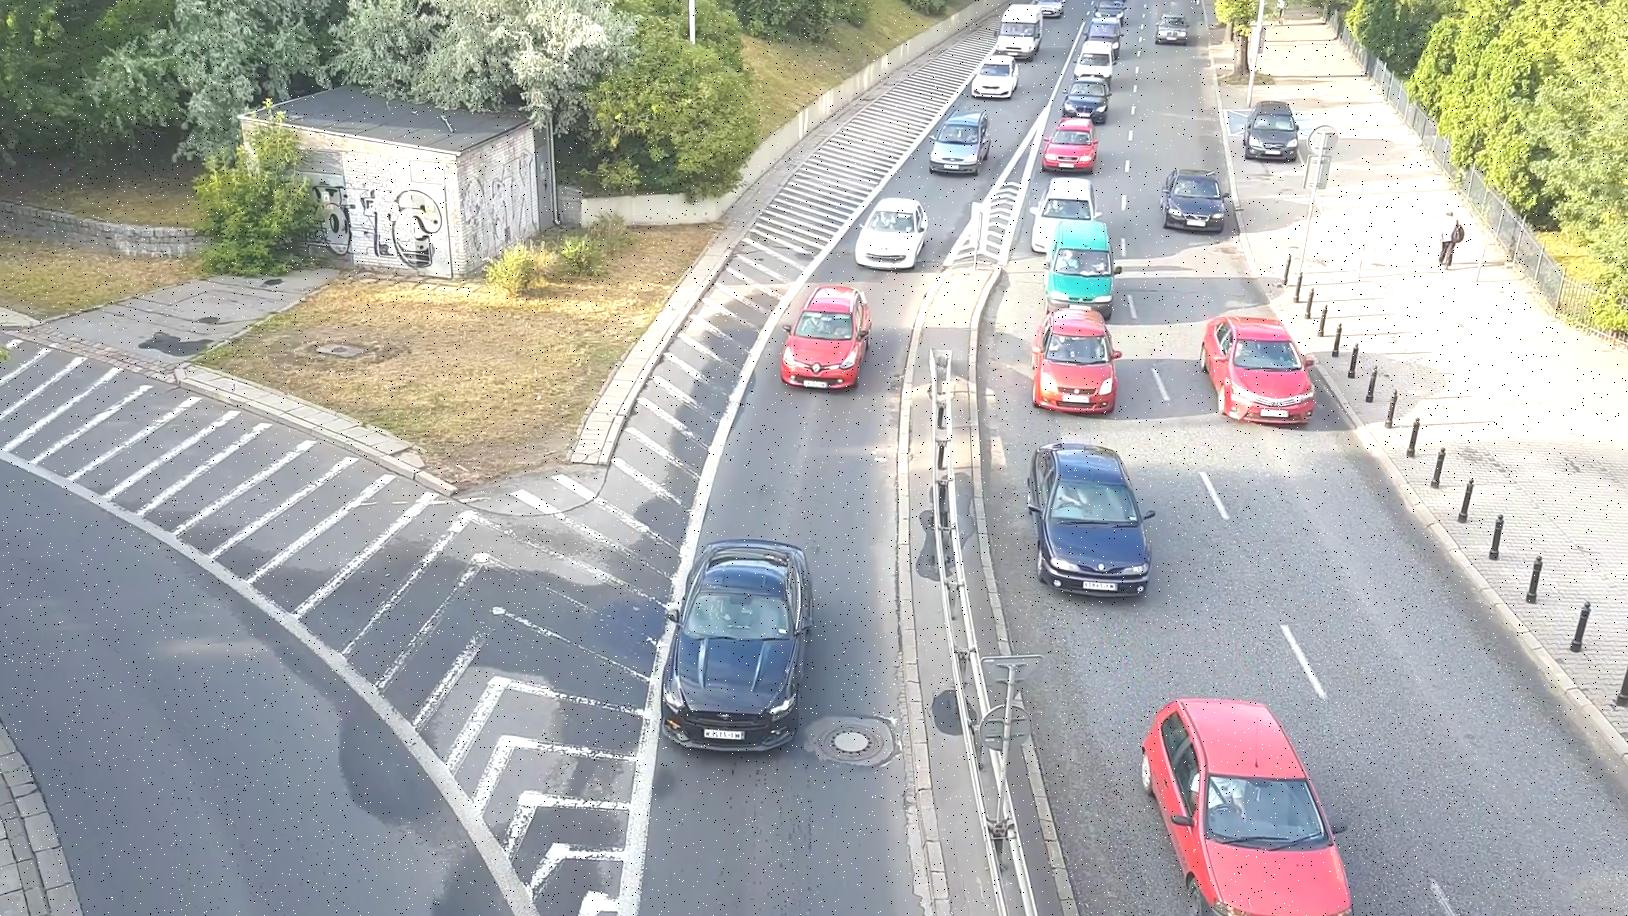car: (1121, 684, 1364, 916), (643, 532, 814, 755), (1017, 428, 1162, 603), (1192, 310, 1323, 428), (777, 281, 880, 402), (1025, 303, 1127, 410), (851, 190, 939, 275), (1153, 162, 1234, 239), (1045, 216, 1116, 304), (925, 100, 992, 185), (1236, 95, 1305, 162), (1034, 159, 1100, 229), (1038, 114, 1110, 168), (1066, 66, 1123, 122), (997, 0, 1045, 62), (973, 51, 1020, 103), (1077, 40, 1117, 77), (1158, 10, 1193, 40)
